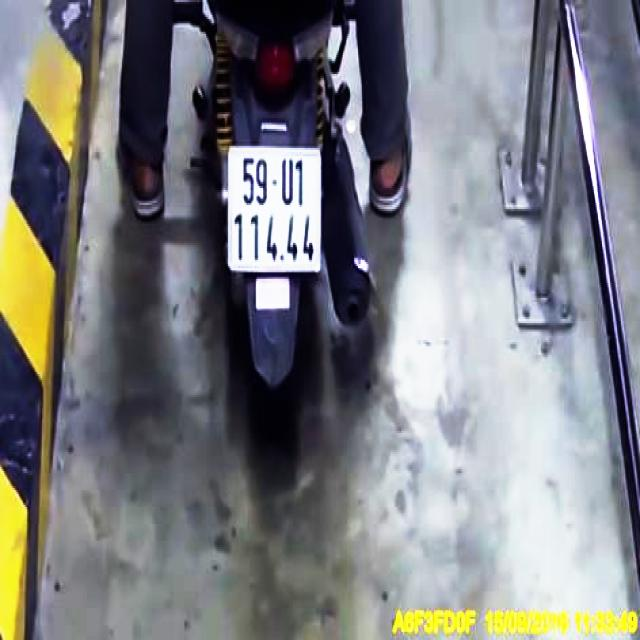license_plate: (231, 145, 323, 274)
